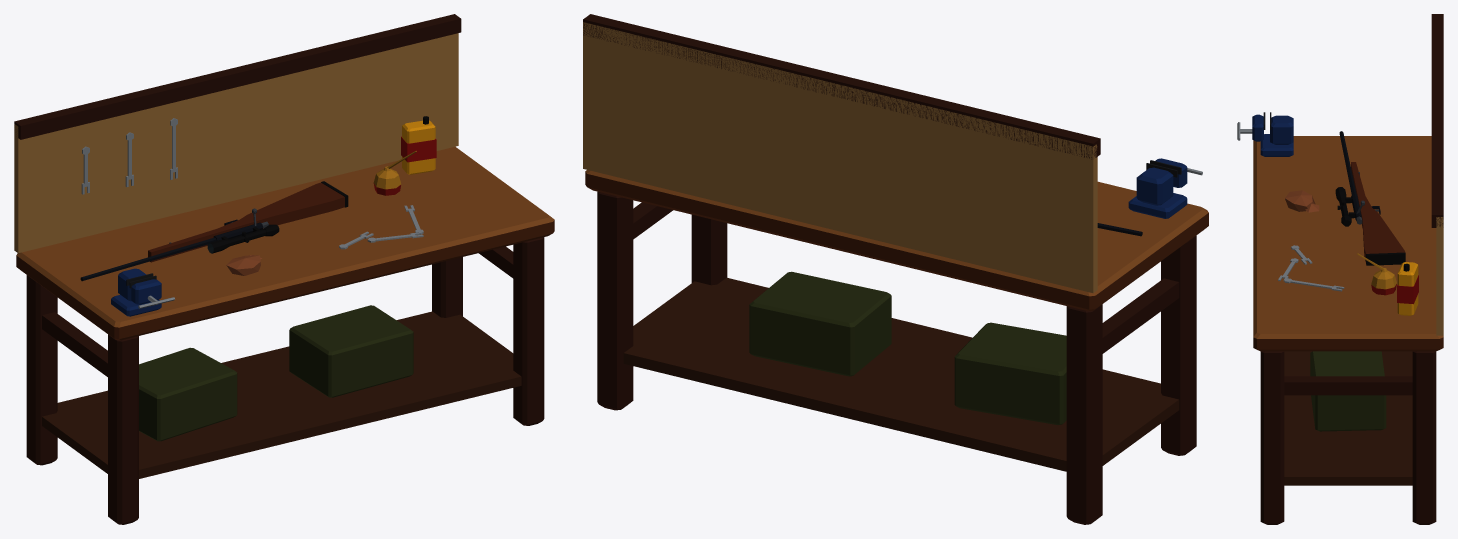
File: SM_Shop_GunsmithWorkbench.glb
The picture shows the model from 3 angles, left to right: view 1: azimuth 30°, elevation 25°; view 2: azimuth 150°, elevation 25°; view 3: azimuth 270°, elevation 25°; orthographic projection. The views are drawn at different scales.
Visible parts, largest first — view 1: SM_Shop_GunsmithWorkbench; view 2: SM_Shop_GunsmithWorkbench; view 3: SM_Shop_GunsmithWorkbench.
Part boxes in pixels (x1=…): SM_Shop_GunsmithWorkbench: x1=14, y1=14, x2=554, y2=524; SM_Shop_GunsmithWorkbench: x1=583, y1=14, x2=1208, y2=524; SM_Shop_GunsmithWorkbench: x1=1237, y1=14, x2=1443, y2=524.
Bounding box in the file's own units: 2 × 1.46 × 0.867.
2 materials, 2 textured.
